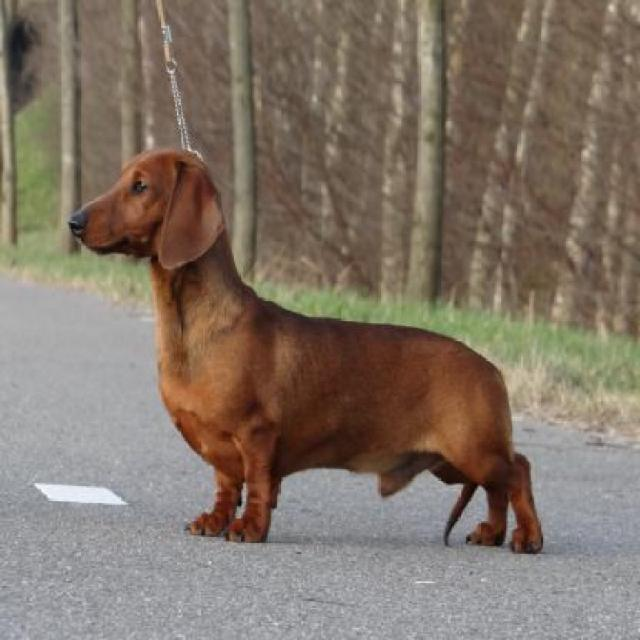Dog: (64, 138, 544, 558)
